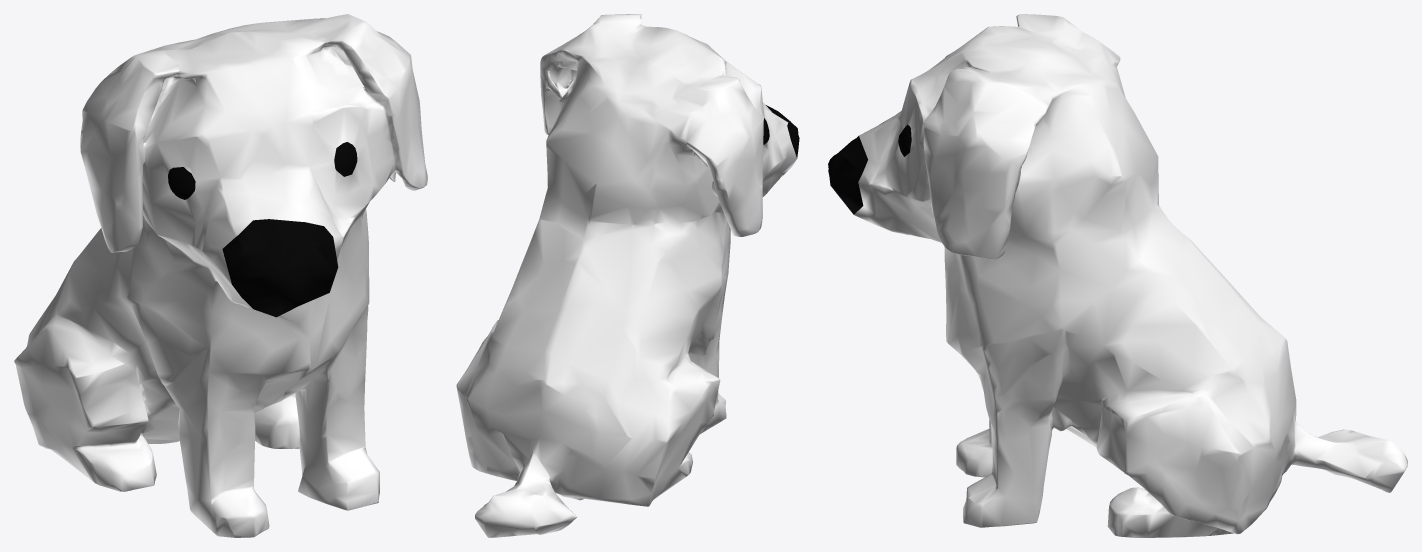
Rendered from dog.glb.
3 renders of one model, left to right at view 1: azimuth 30°, elevation 25°; view 2: azimuth 150°, elevation 25°; view 3: azimuth 270°, elevation 25°, orthographic. The views are drawn at different scales.
Parts seen in each view (by area): view 1: Mesh1.0; view 2: Mesh1.0; view 3: Mesh1.0.
Boxes of the visible parts, <box> form: Mesh1.0: <box>14,14,427,537</box>; Mesh1.0: <box>456,14,799,537</box>; Mesh1.0: <box>828,14,1407,537</box>.
Size of the model in its own units: 1.11 by 1.76 by 2.05.
1 material, 1 textured.
